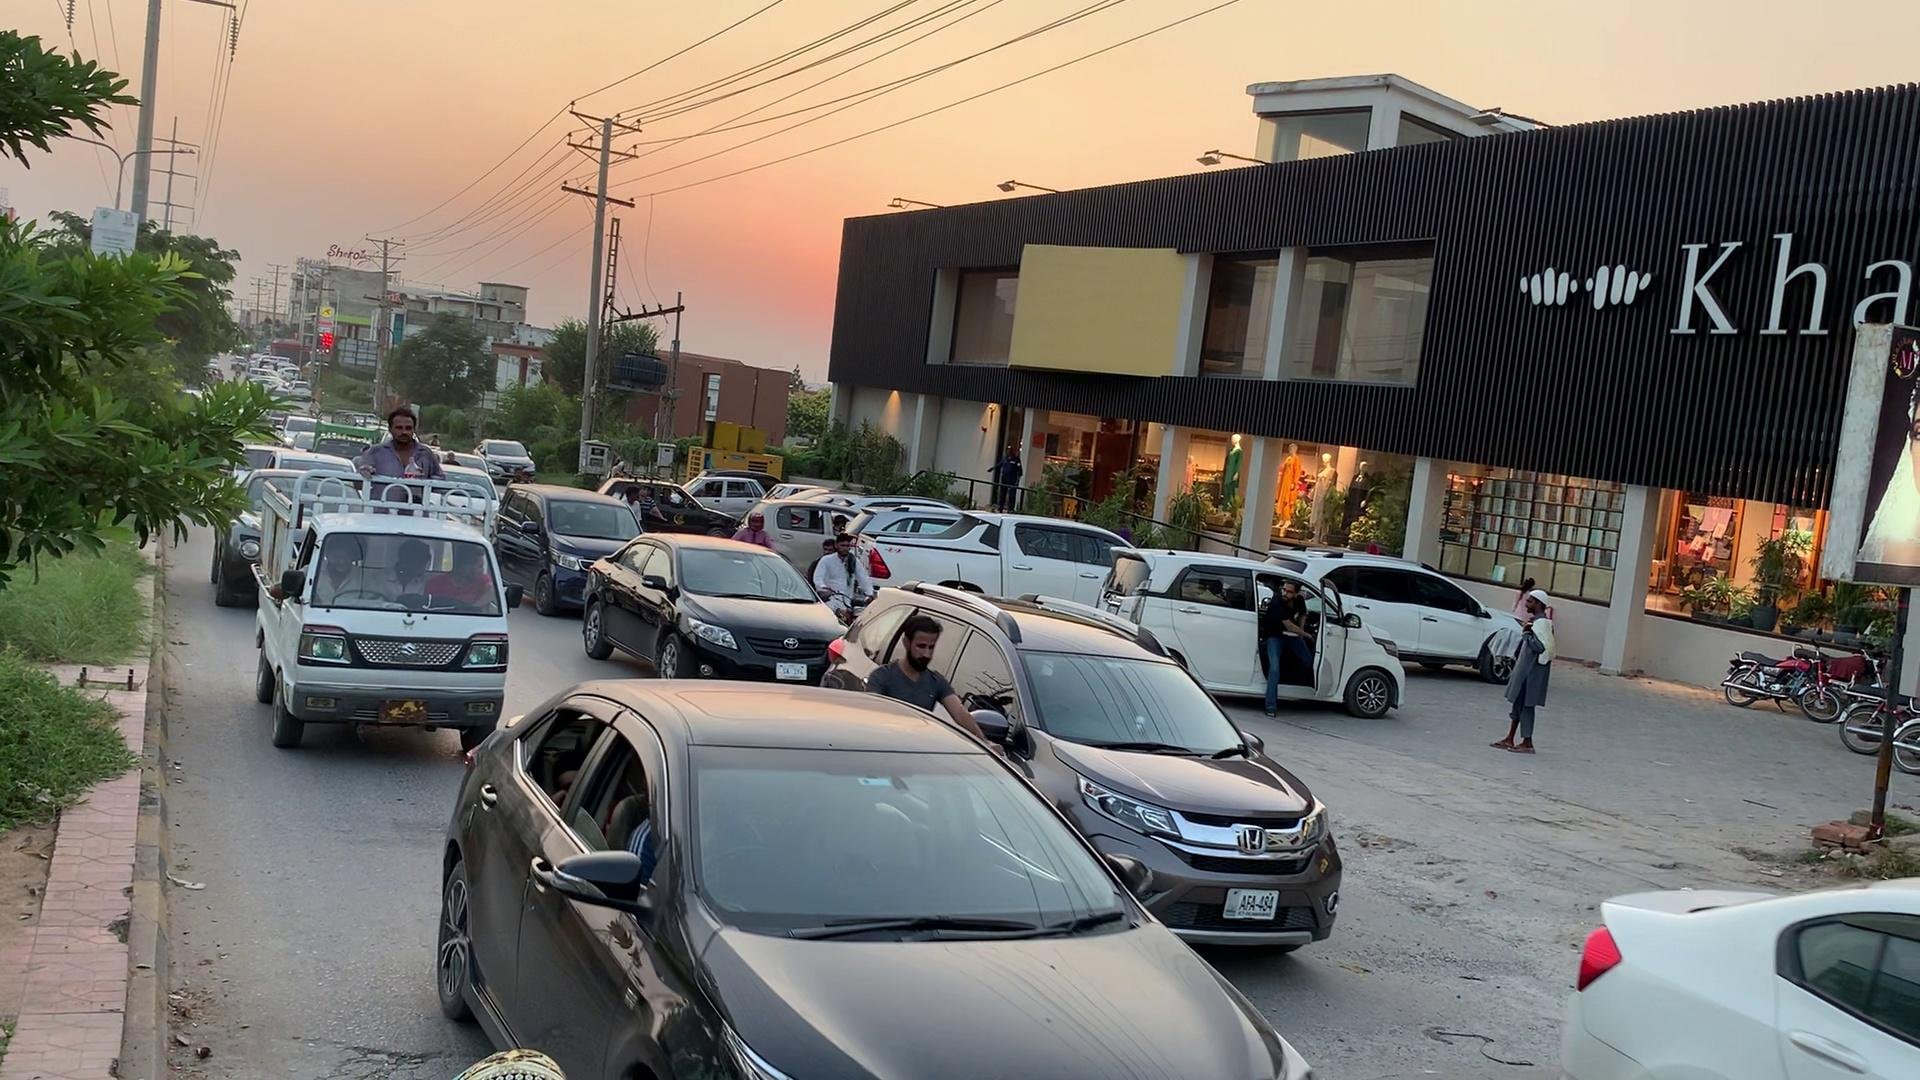windshield: (694, 740, 1150, 927), (1017, 646, 1257, 753), (307, 526, 510, 611), (671, 543, 831, 607)
